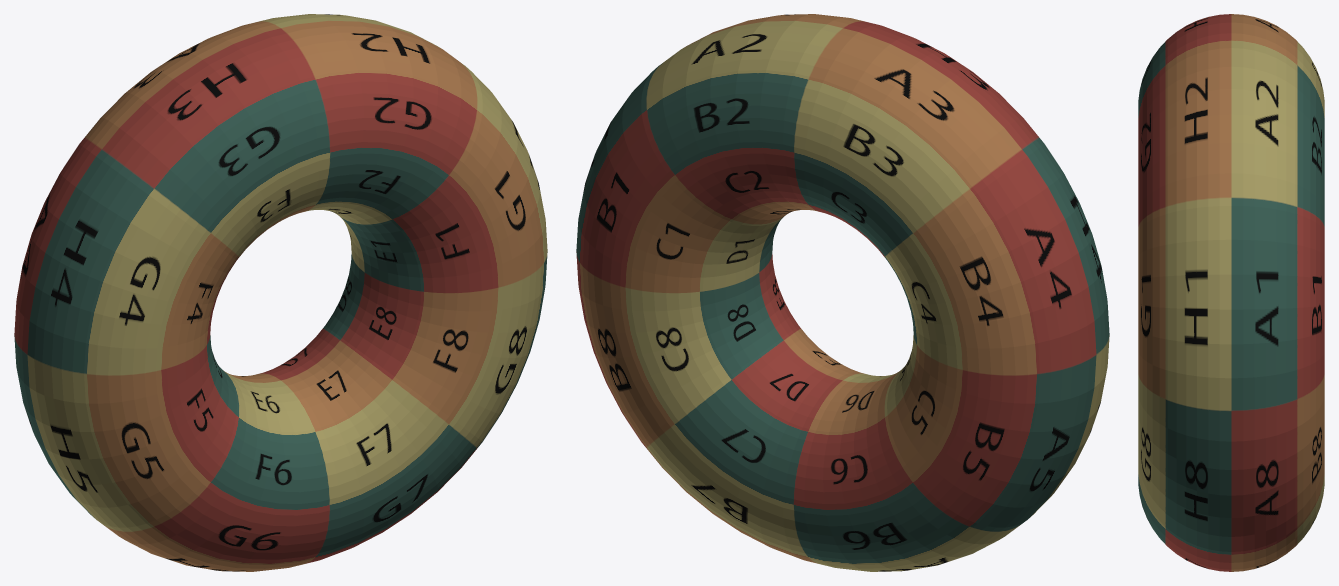
File: texture_torus_R14_r29.glb
3 renders of one model, left to right at view 1: azimuth 30°, elevation 25°; view 2: azimuth 150°, elevation 25°; view 3: azimuth 270°, elevation 25°, orthographic. The views are drawn at different scales.
Parts seen in each view (by area): view 1: world; view 2: world; view 3: world.
Part boxes in pixels (x1=…): world: x1=14, y1=14, x2=547, y2=571; world: x1=576, y1=14, x2=1109, y2=571; world: x1=1138, y1=14, x2=1324, y2=571.
Bounding box in the file's own units: 29.07 × 29.01 × 9.71.
1 material, 1 textured.
